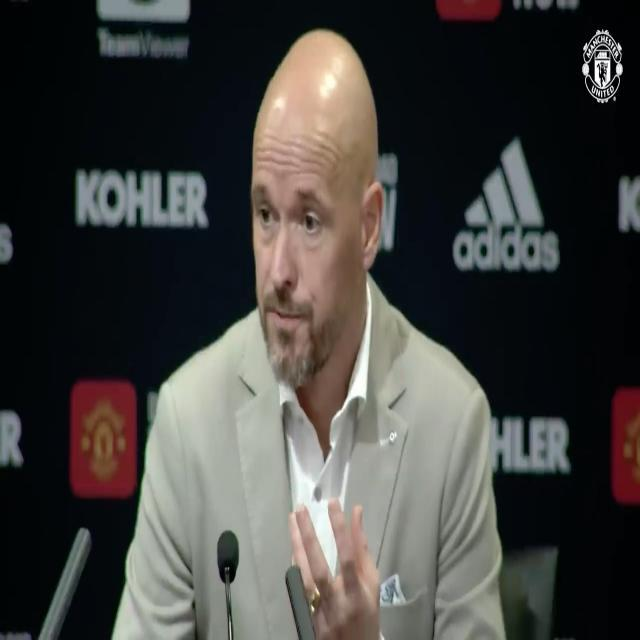Adidas: (453, 139, 560, 271)
Kohler: (77, 171, 207, 227)
TeamViewer: (97, 0, 190, 58)
